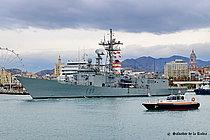MIL_Ship: (15, 28, 188, 97)
